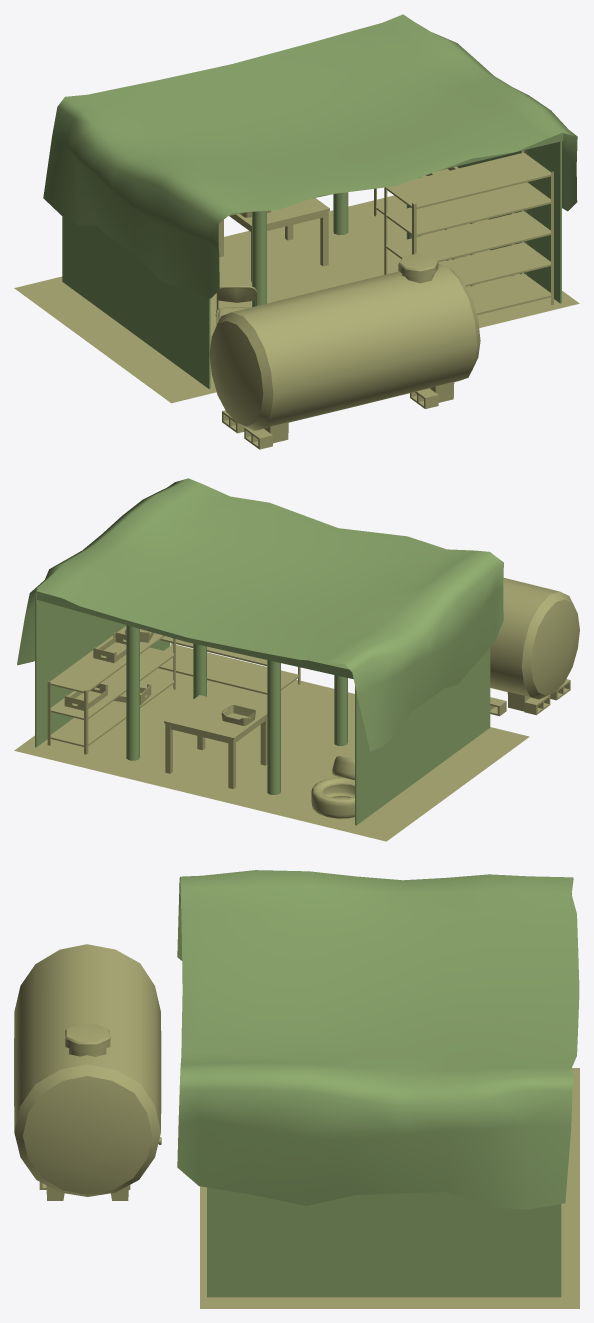
Rendered from market.fbx.
3 views of the same model, one above another, from view 1: azimuth 30°, elevation 25°; view 2: azimuth 150°, elevation 25°; view 3: azimuth 270°, elevation 25° (orthographic). The views are drawn at different scales.
Visible parts, largest first — view 1: market; view 2: market; view 3: market.
Boxes of the visible parts, x1,y1,x2,y2 form: market: (14, 14, 579, 449); market: (14, 478, 579, 841); market: (14, 870, 579, 1308).
Bounding box in the file's own units: 486 × 215 × 479.
